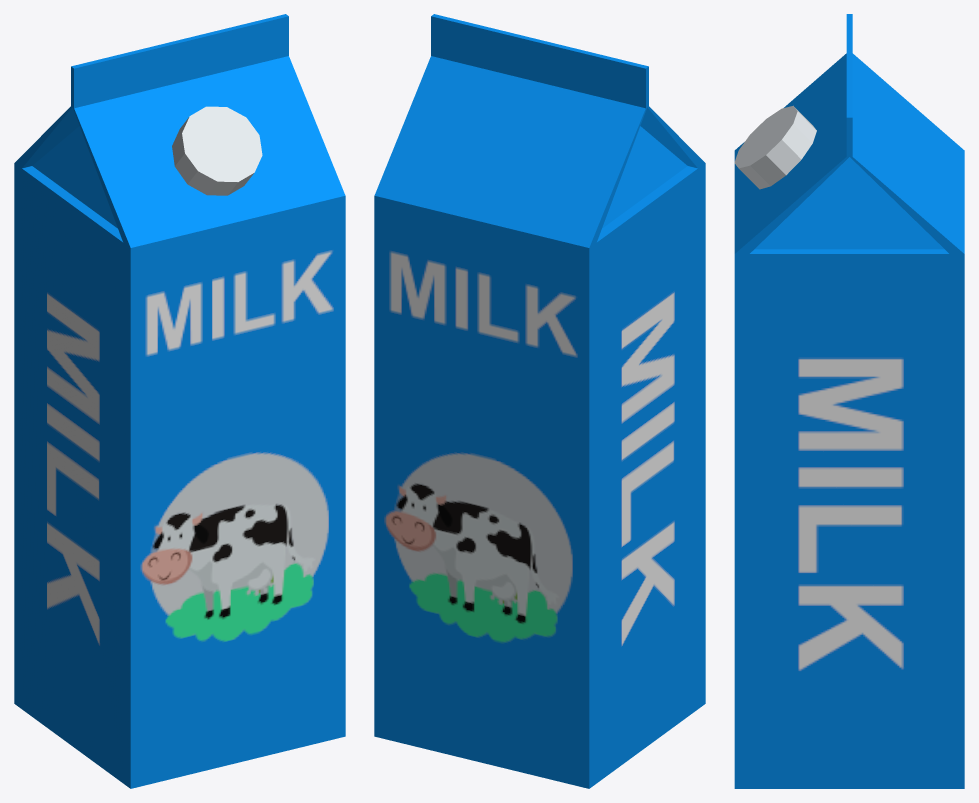
The model's file is Milk.fbx.
3 views of the same model, side by side, from view 1: azimuth 30°, elevation 25°; view 2: azimuth 150°, elevation 25°; view 3: azimuth 270°, elevation 25° (orthographic).
Parts seen in each view (by area): view 1: Milk; view 2: Milk; view 3: Milk.
Boxes of the visible parts, box(x1,y1,x2,y2) form: Milk: box(14, 14, 345, 788); Milk: box(374, 14, 705, 788); Milk: box(734, 14, 964, 788).
Size of the model in its own units: 12.8 by 38.66 by 12.01.
